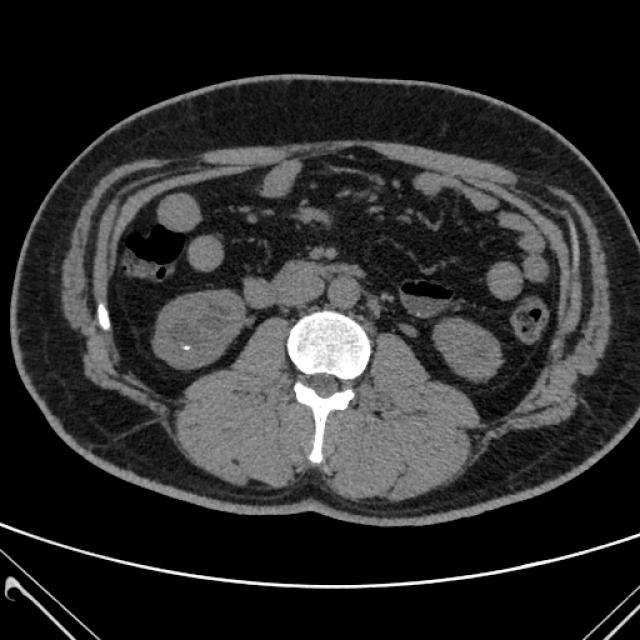kidney: (152, 290, 247, 371), (430, 318, 505, 386)
stone: (182, 341, 191, 353)
